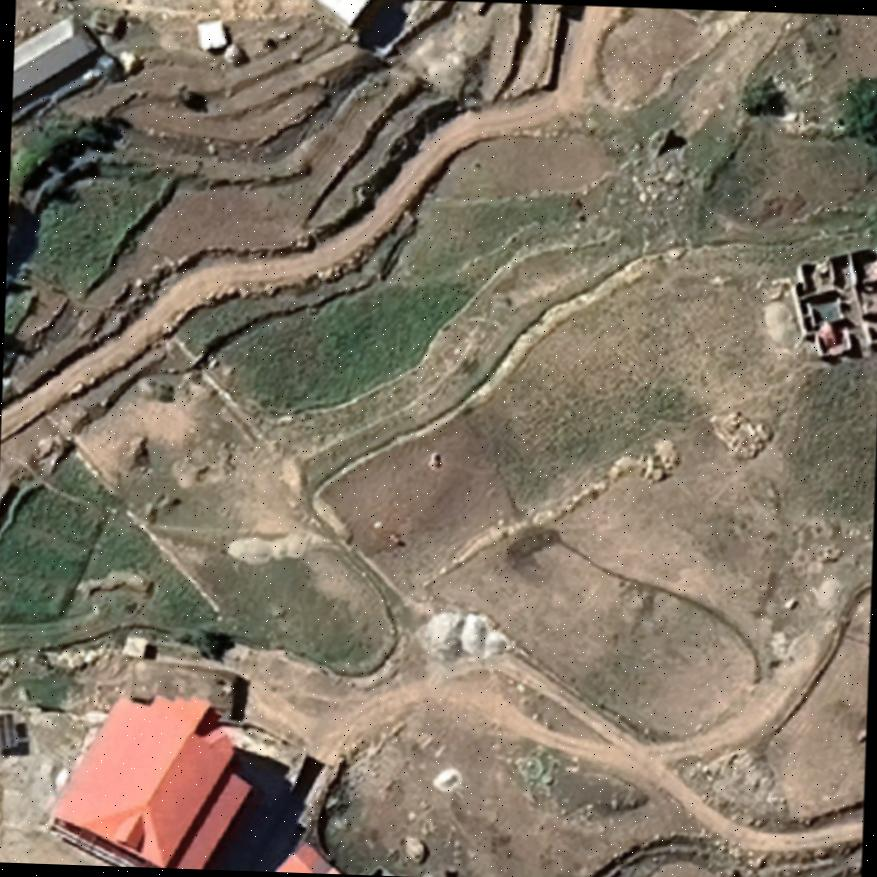Solarpanel: (0, 710, 20, 751)
